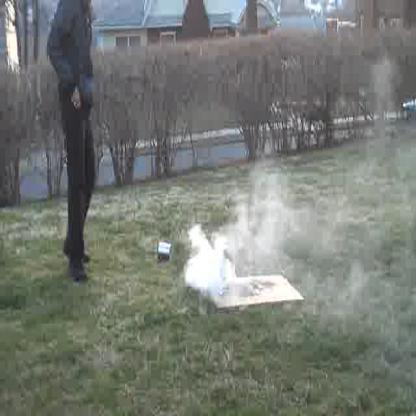Smoke: (185, 224, 235, 297), (245, 186, 290, 262)
